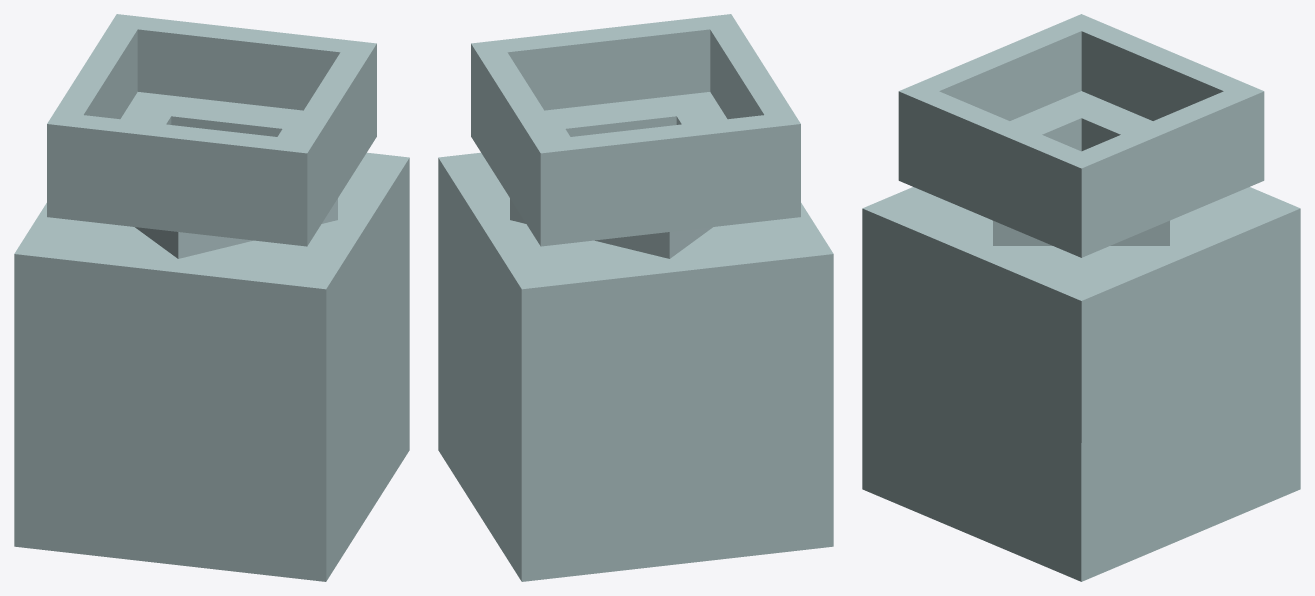
The model's file is Jar.fbx.
3 views of the same model, side by side, from view 1: azimuth 30°, elevation 25°; view 2: azimuth 150°, elevation 25°; view 3: azimuth 270°, elevation 25° (orthographic). The views are drawn at different scales.
Parts seen in each view (by area): view 1: Cube; view 2: Cube; view 3: Cube.
Part boxes in pixels (box(x1,y1,x2,y2)): Cube: box(14, 14, 409, 581); Cube: box(438, 14, 833, 581); Cube: box(862, 14, 1300, 581).
Size of the model in its own units: 283 by 283 by 283.
